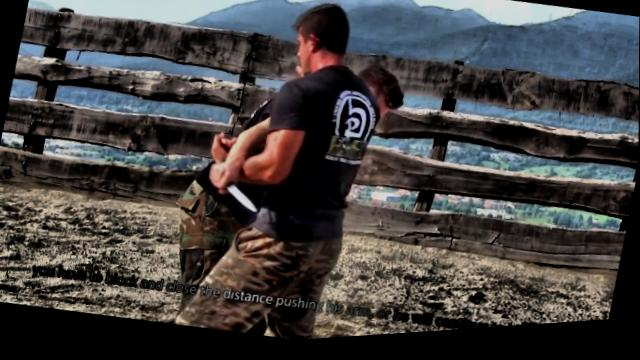knife: (200, 156, 269, 220)
